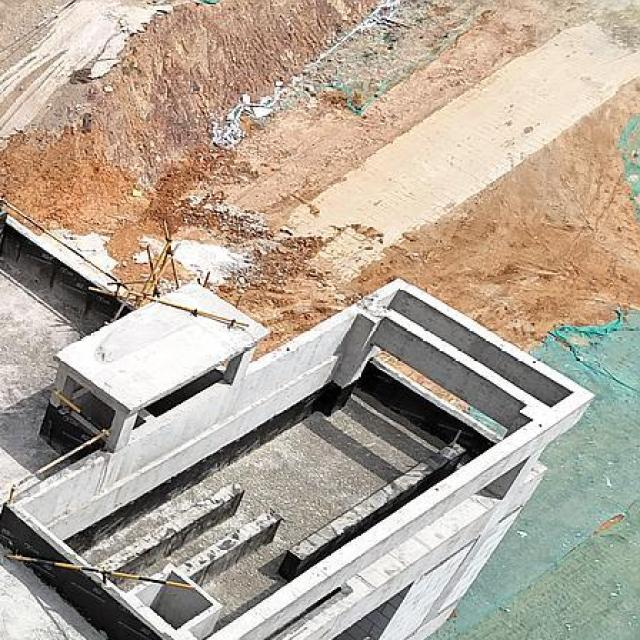edge_guardrail: (0, 195, 134, 290), (8, 387, 109, 504), (3, 554, 196, 590)
